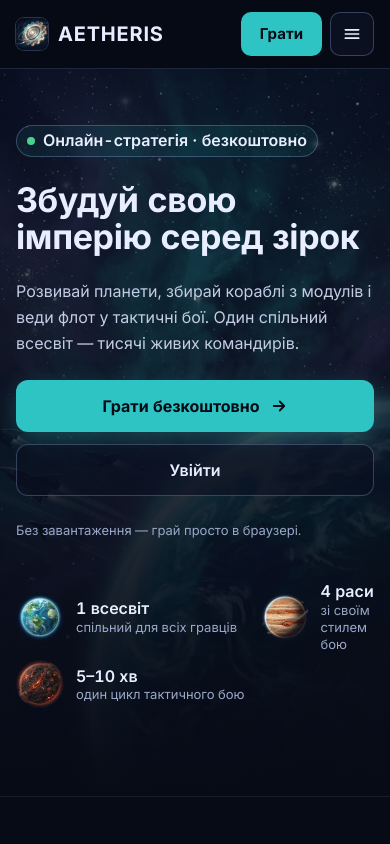
it: LandingPage › opens and closes the mobile menu
Click the button named "Відкрити меню" at (352, 34), box [330,12,374,56]
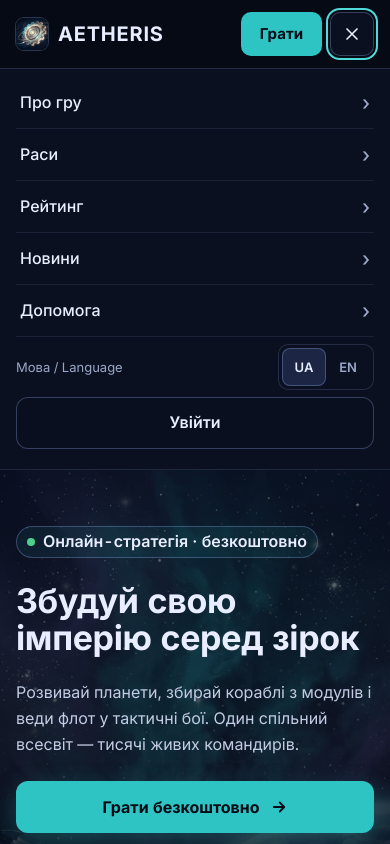
Check: the button named "Відкрити меню" is expanded, box [330,12,374,56]
Check: the element with id "mobile-menu" is shown, box [0,68,389,469]
Press Escape
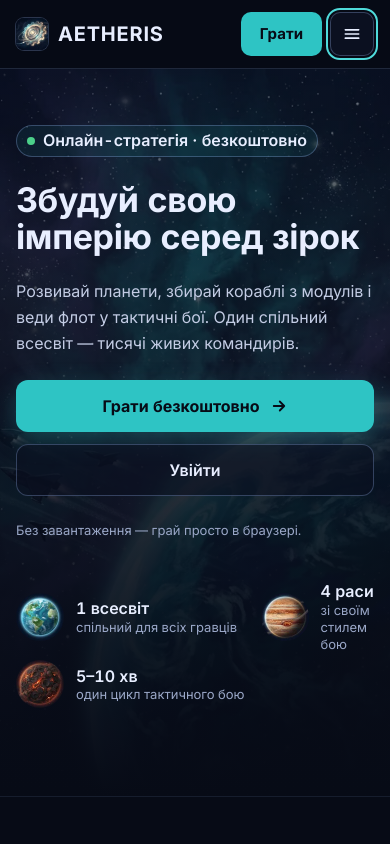
Check: the button named "Відкрити меню" is collapsed, box [330,12,374,56]
